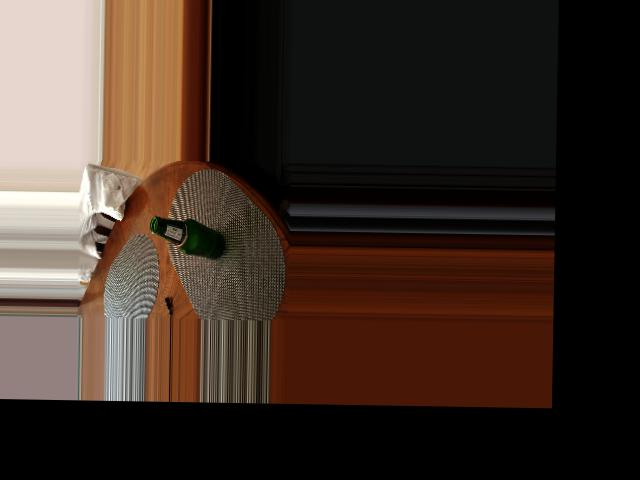beer: (150, 218, 225, 259)
